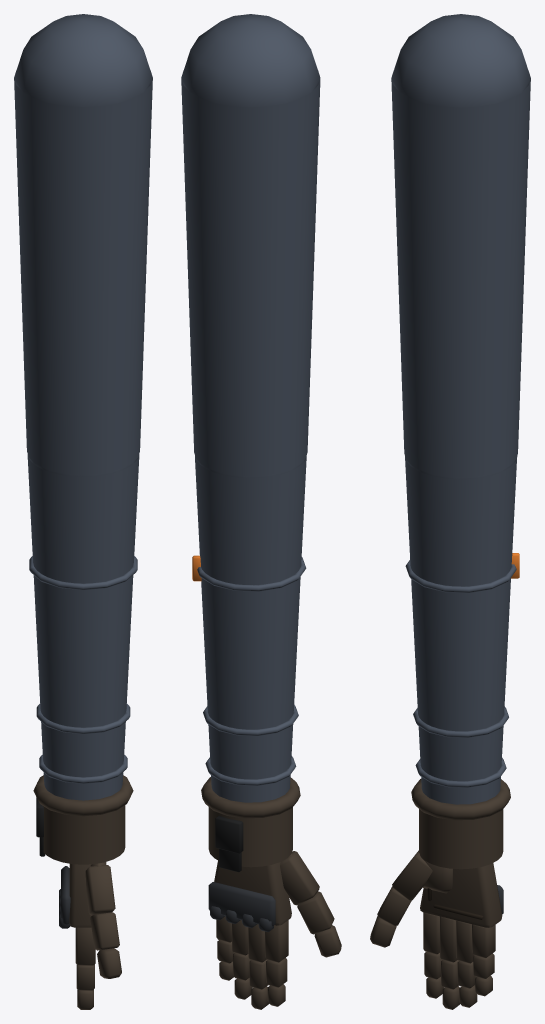
The model's file is brazo_fps.glb.
3 views of the same model, side by side, from view 1: azimuth 90°, elevation 25°; view 2: azimuth 150°, elevation 25°; view 3: azimuth 330°, elevation 25° (orthographic).
Visible parts, largest first — view 1: brazo, antebrazo, munequera, pulgar_f1, palma, pulgar_f2, dedo_1_f1, pulgar_f3, dorso, dedo_1_f2; view 2: brazo, antebrazo, munequera, dorso, palma, pulgar_f1, pulgar_f2, dedo_1_f1, pulgar_f3, dedo_2_f1, dedo_1_f2, dedo_3_f1 (+2 smaller); view 3: brazo, antebrazo, munequera, palma, pulgar_f1, pulgar_f2, dedo_2_f1, dedo_4_f1, dedo_1_f1, dedo_3_f1, almohadilla, pulgar_f3 (+4 smaller).
Part boxes in pixels (left/top/right/bottom): brazo: left=14, top=14, right=152, bottom=474; antebrazo: left=27, top=454, right=139, bottom=800; munequera: left=33, top=775, right=133, bottom=864; pulgar_f1: left=85, top=865, right=115, bottom=915; palma: left=69, top=863, right=91, bottom=927; pulgar_f2: left=90, top=912, right=119, bottom=950; dedo_1_f1: left=75, top=927, right=95, bottom=965; pulgar_f3: left=97, top=948, right=121, bottom=978; dorso: left=59, top=866, right=70, bottom=928; dedo_1_f2: left=76, top=964, right=94, bottom=990; brazo: left=181, top=14, right=320, bottom=476; antebrazo: left=192, top=456, right=306, bottom=802; munequera: left=201, top=777, right=300, bottom=872; dorso: left=208, top=882, right=275, bottom=932; palma: left=214, top=860, right=291, bottom=925; pulgar_f1: left=280, top=851, right=319, bottom=905; pulgar_f2: left=297, top=891, right=334, bottom=934; dedo_1_f1: left=265, top=920, right=288, bottom=962; pulgar_f3: left=314, top=925, right=341, bottom=957; dedo_2_f1: left=248, top=924, right=266, bottom=962; dedo_1_f2: left=266, top=958, right=287, bottom=987; dedo_3_f1: left=232, top=920, right=248, bottom=955; brazo: left=391, top=14, right=530, bottom=477; antebrazo: left=405, top=456, right=519, bottom=804; munequera: left=411, top=779, right=510, bottom=869; palma: left=420, top=863, right=502, bottom=927; pulgar_f1: left=392, top=850, right=432, bottom=900; pulgar_f2: left=377, top=887, right=411, bottom=925; dedo_2_f1: left=440, top=916, right=457, bottom=962; dedo_4_f1: left=472, top=924, right=495, bottom=957; dedo_1_f1: left=423, top=912, right=439, bottom=954; dedo_3_f1: left=456, top=920, right=474, bottom=963; almohadilla: left=421, top=857, right=452, bottom=893; pulgar_f3: left=370, top=916, right=396, bottom=947.
Bounding box in the file's own units: 0.1408 × 0.9678 × 0.124.
